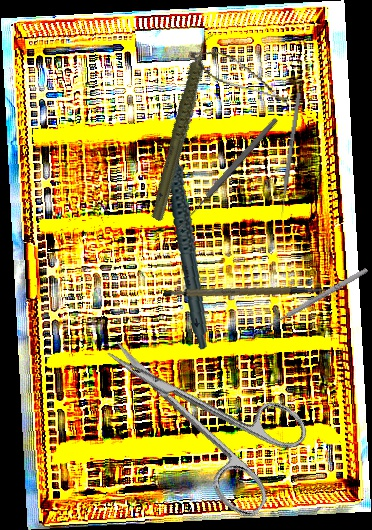Handpiece: (115, 31, 254, 223), (150, 123, 226, 351)
Hook Surgical: (250, 265, 372, 344)
Iris Scissors: (78, 298, 321, 524)
Micro Scissor: (182, 45, 300, 106)
Pusher: (278, 92, 302, 219)
Scalpel Handle: (162, 268, 325, 319)
Surgical Spoon: (174, 116, 280, 232)
